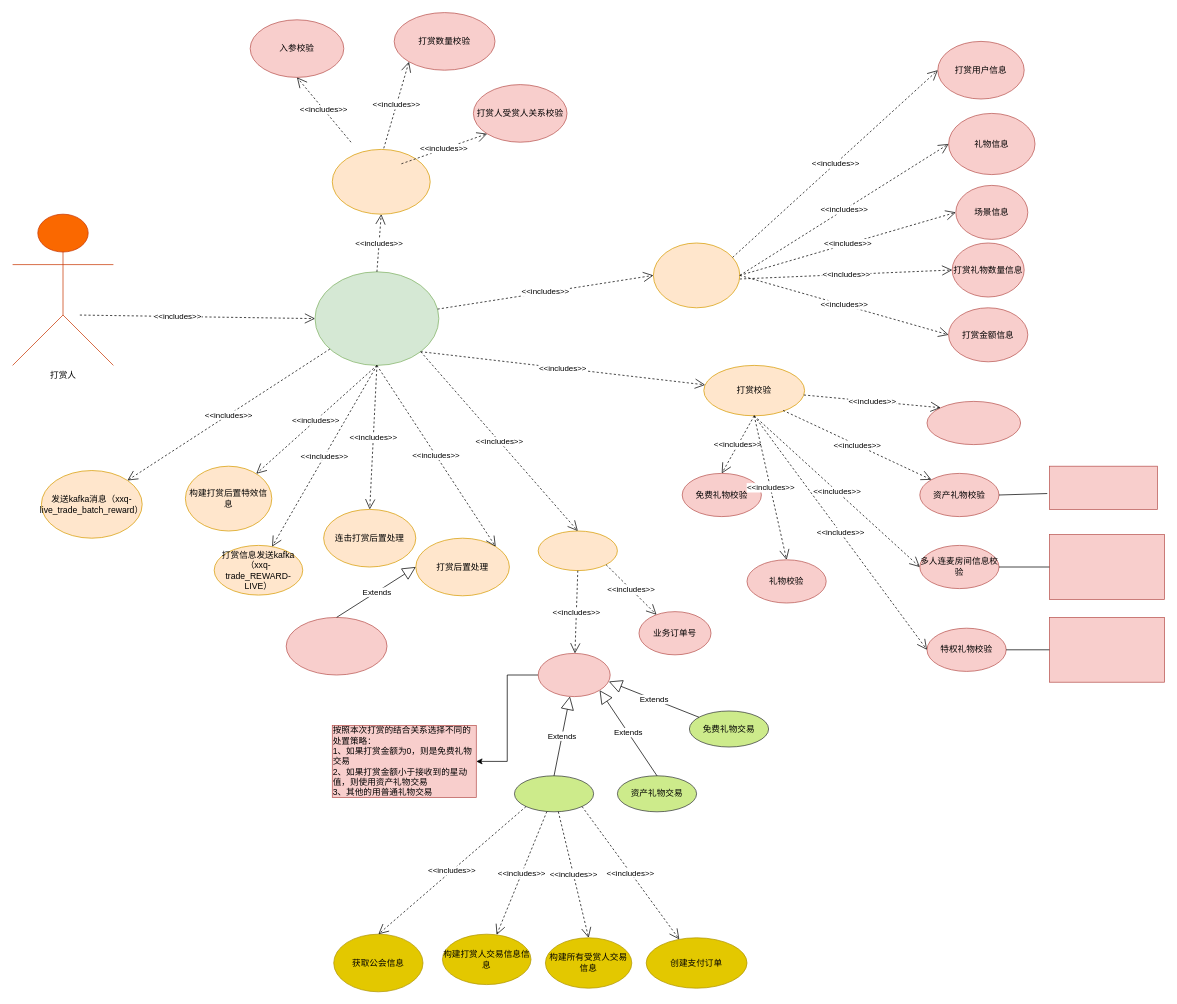
Some shapes in this 1177 by 1004 pixel diagram are drawn without their labels. The shapes that lost their labels are listed below. From the top down, each one's box as (x1, y1, x2, y2) in pixels, then its label:
(332, 149, 430, 214): 准入校验
(653, 242, 740, 308): 构建打赏信息
(314, 271, 439, 365): 直播间批量打赏
(926, 401, 1021, 445): 客户端版本校验
(1049, 465, 1157, 509): 1、校验拥有的资产礼物是否充足 2、粉丝团礼物，校验粉丝关系
(537, 530, 617, 571): 创建支付交易订单
(1049, 534, 1165, 599): 1、用户是否被拉黑 2、粉丝团礼物不支持多人打赏 3、粉丝团礼物关系校验 4、粉丝团等级校验
(285, 617, 387, 675): 升级礼物处理
(1049, 617, 1165, 682): 1、多人打赏，部分类型礼物不能使用（火箭/盲盒等） 2、冒险岛特殊礼物主播身份不能打赏 3、风控结果判断
(537, 653, 610, 697): 礼物打赏交易
(514, 775, 594, 812): 普通礼物交易
